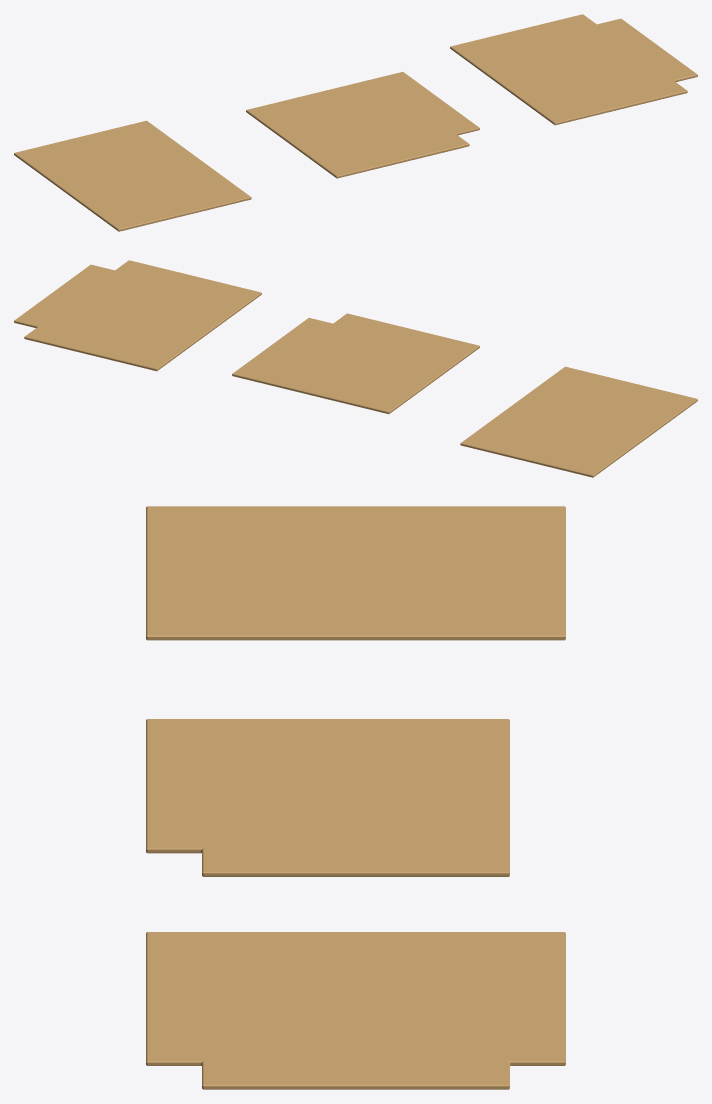
File: jalan_lebar_v001.glb
3 renders of one model, top to bottom at view 1: azimuth 30°, elevation 25°; view 2: azimuth 150°, elevation 25°; view 3: azimuth 270°, elevation 25°, orthographic. The views are drawn at different scales.
Visible parts, largest first — view 1: jalan_lebar_pertigaan, jalan_lebar_belok, jalan_lebar_lurus; view 2: jalan_lebar_pertigaan, jalan_lebar_belok, jalan_lebar_lurus; view 3: jalan_lebar_pertigaan, jalan_lebar_lurus, jalan_lebar_belok.
Boxes of the visible parts, x1=… form: jalan_lebar_pertigaan: x1=450, y1=14, x2=697, y2=125; jalan_lebar_belok: x1=246, y1=72, x2=479, y2=178; jalan_lebar_lurus: x1=14, y1=120, x2=251, y2=231; jalan_lebar_pertigaan: x1=14, y1=260, x2=261, y2=371; jalan_lebar_belok: x1=232, y1=313, x2=479, y2=414; jalan_lebar_lurus: x1=460, y1=366, x2=697, y2=477; jalan_lebar_pertigaan: x1=146, y1=932, x2=565, y2=1089; jalan_lebar_lurus: x1=146, y1=506, x2=565, y2=640; jalan_lebar_belok: x1=146, y1=719, x2=509, y2=876.
Size of the model in its own units: 9.8 by 0.04 by 3.
